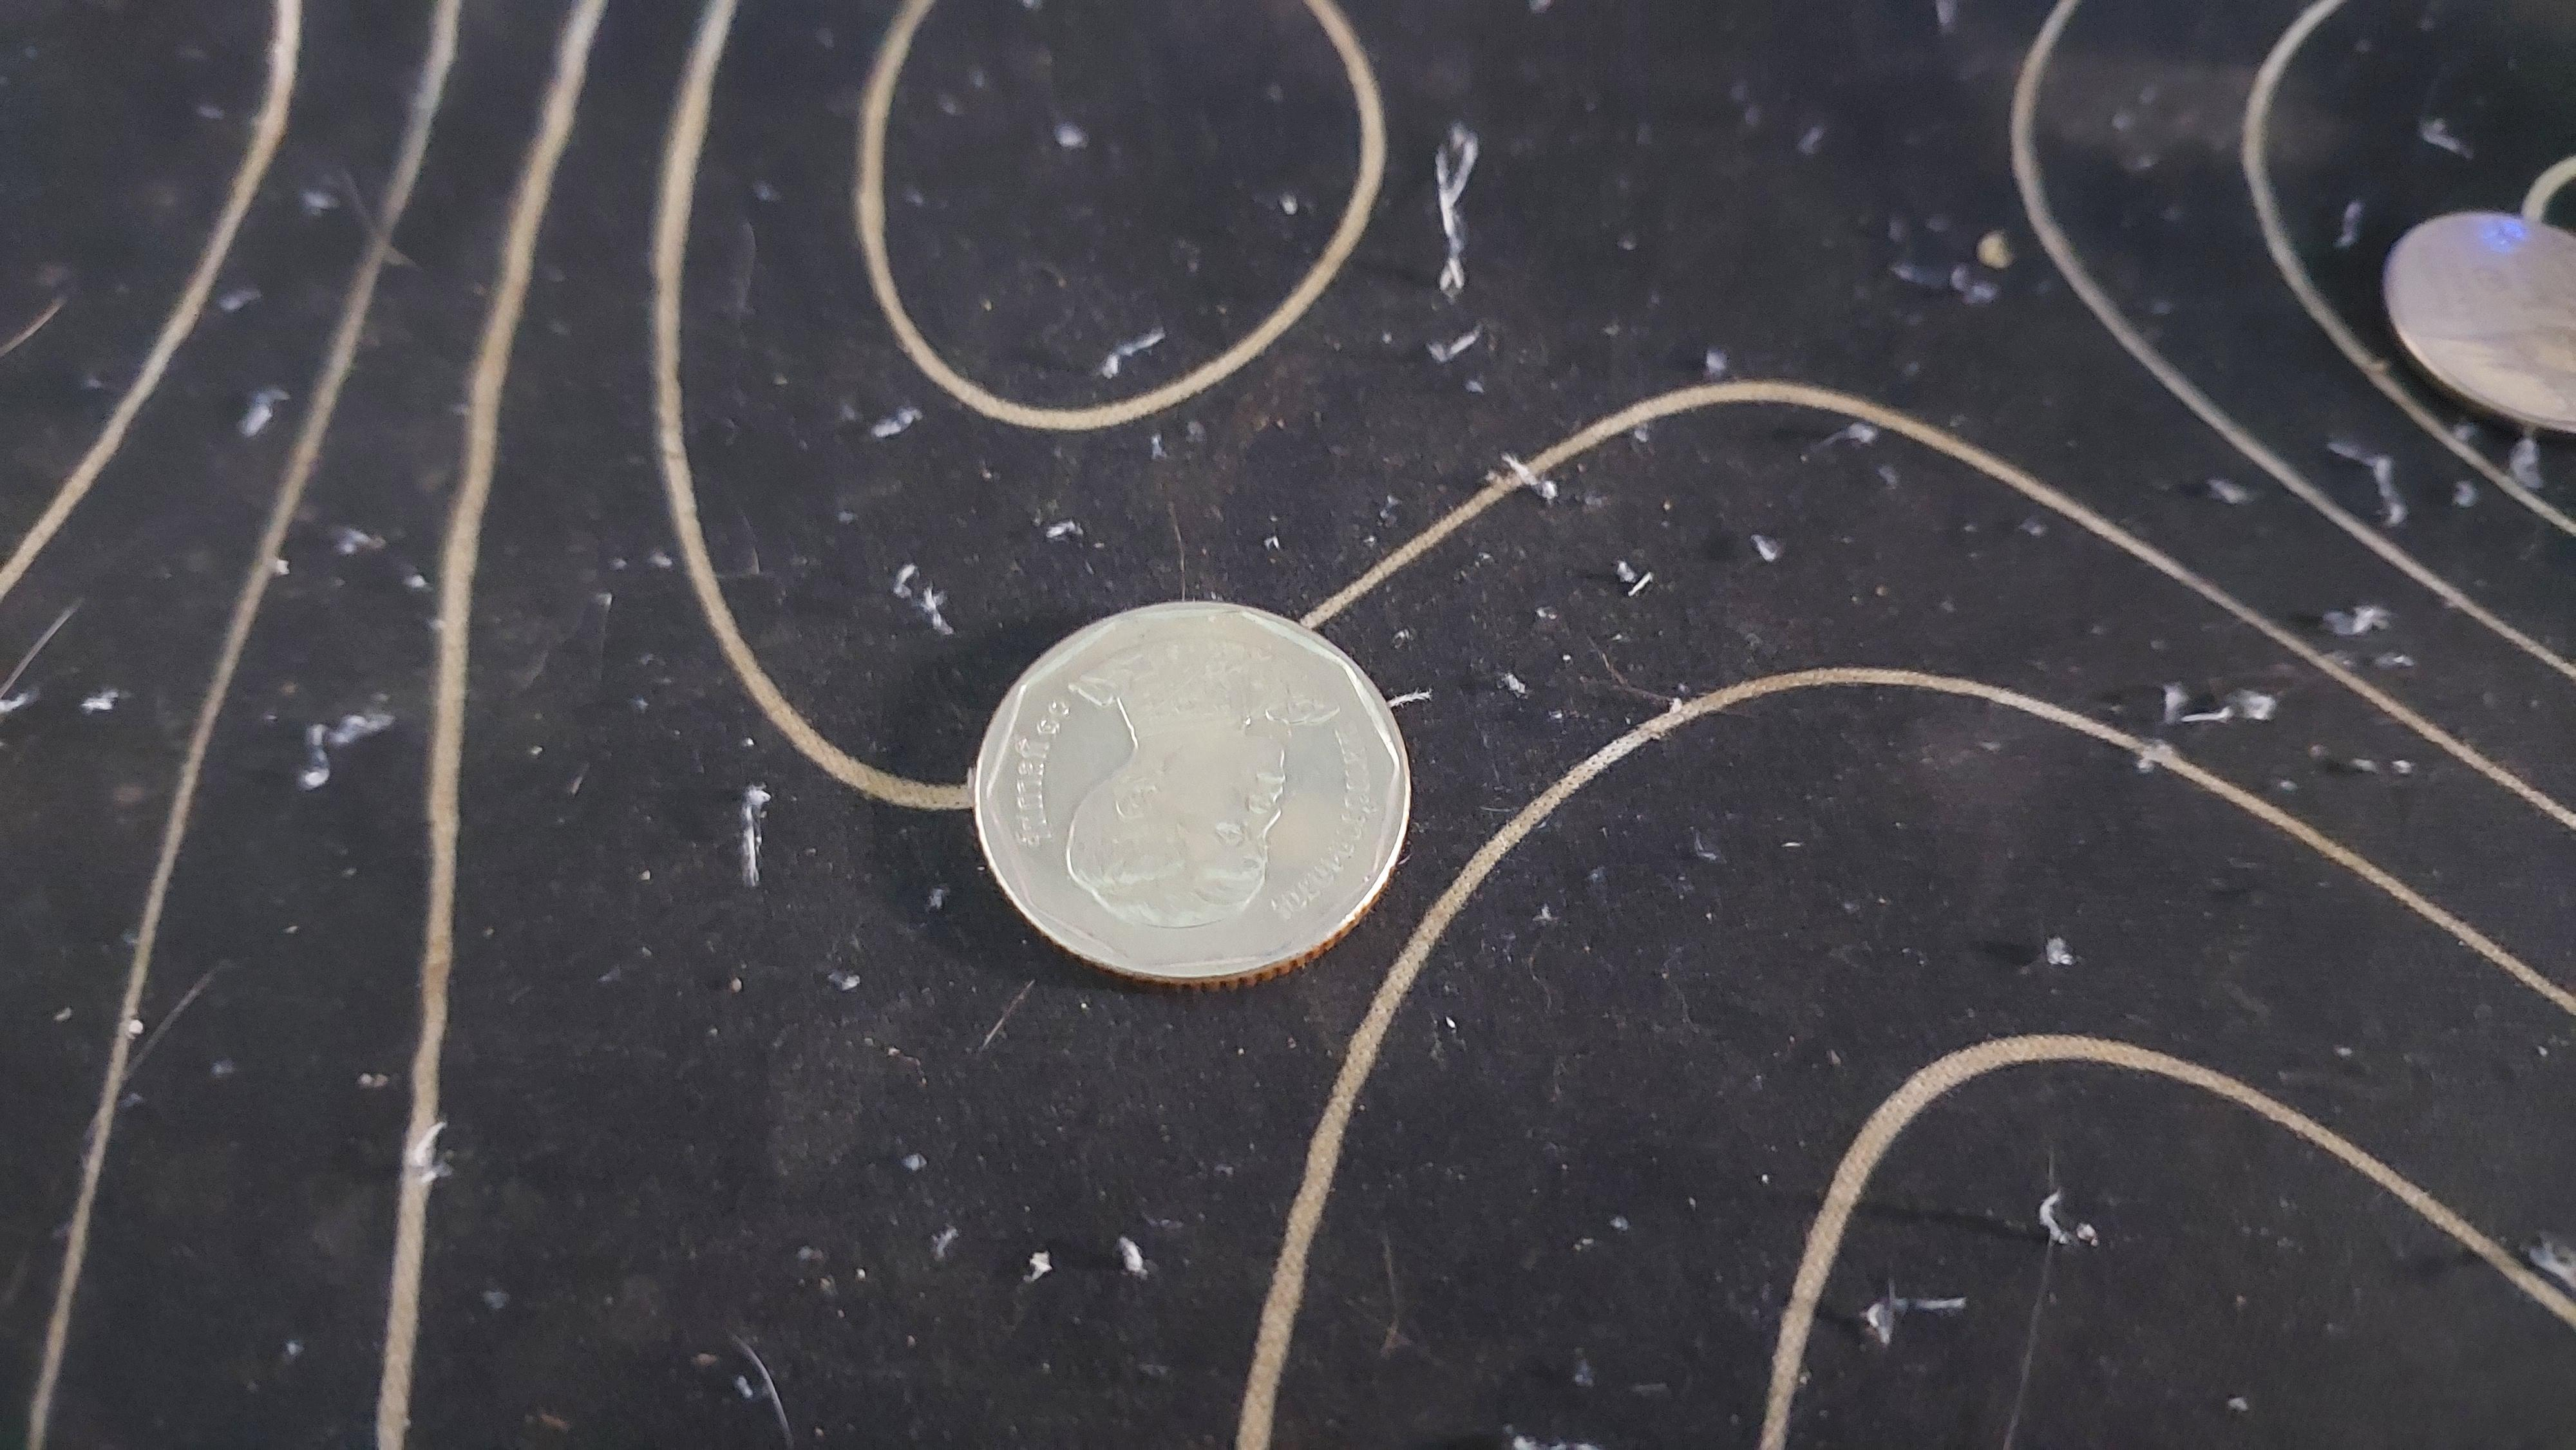5baht: (925, 545, 1445, 1027)
